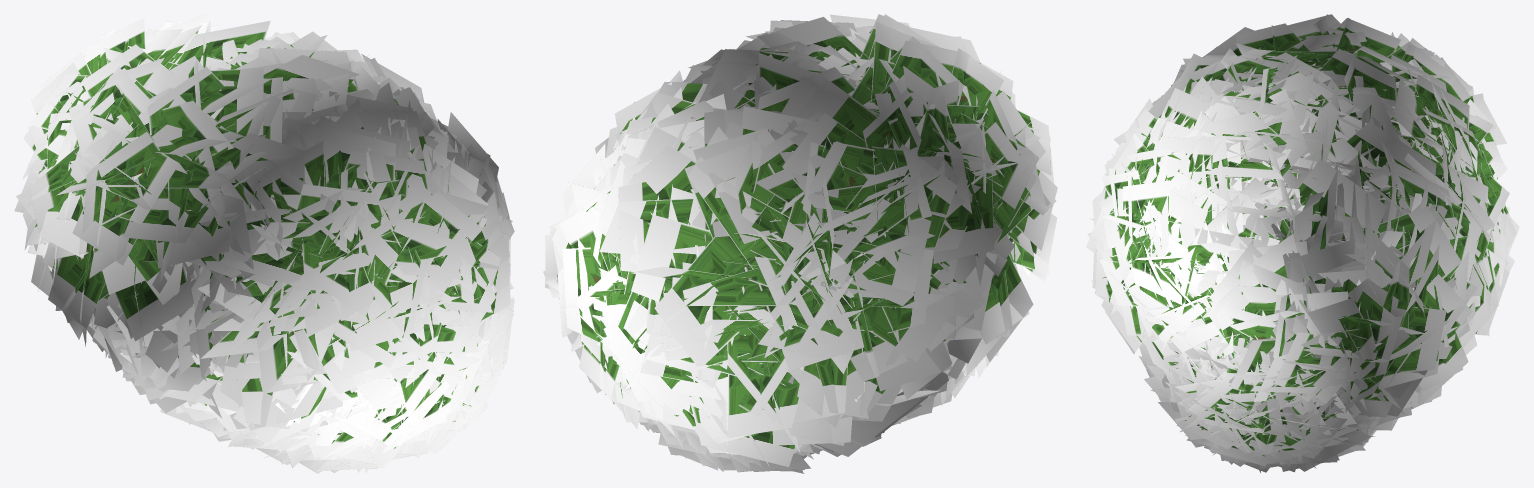
File: green_foliage_polish_test_03.FBX
The picture shows the model from 3 angles, left to right: view 1: azimuth 30°, elevation 25°; view 2: azimuth 150°, elevation 25°; view 3: azimuth 270°, elevation 25°; orthographic projection. The views are drawn at different scales.
Visible parts, largest first — view 1: Object008; view 2: Object008; view 3: Object008.
Boxes of the visible parts, box(x1,y1,x2,y2) form: Object008: box(14, 14, 514, 473); Object008: box(543, 14, 1057, 473); Object008: box(1086, 14, 1519, 472).
Size of the model in its own units: 2010 by 1921 by 2028.
Materials: 1 (1 with a texture image).
